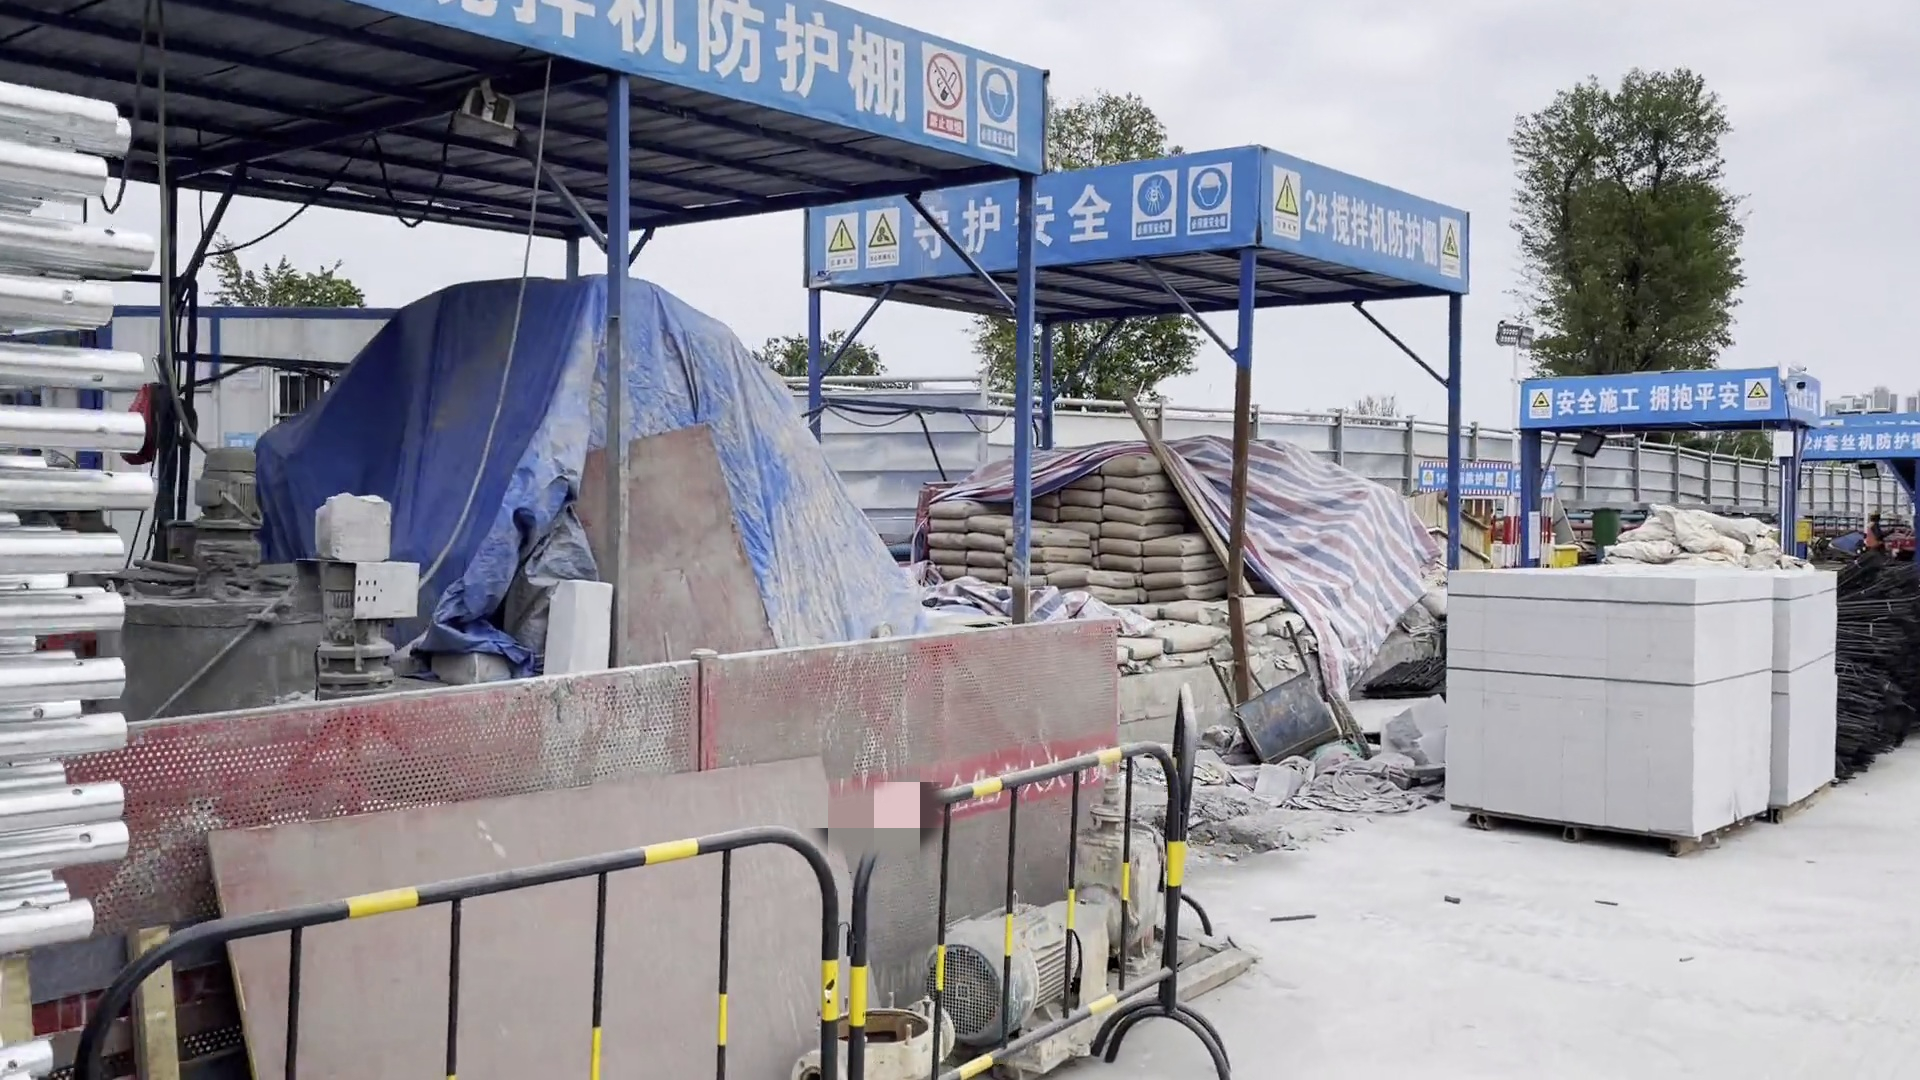brick: (1437, 549, 1844, 851)
scaffold: (1, 67, 179, 964)
slogan: (890, 167, 1142, 274), (1559, 375, 1735, 419)
